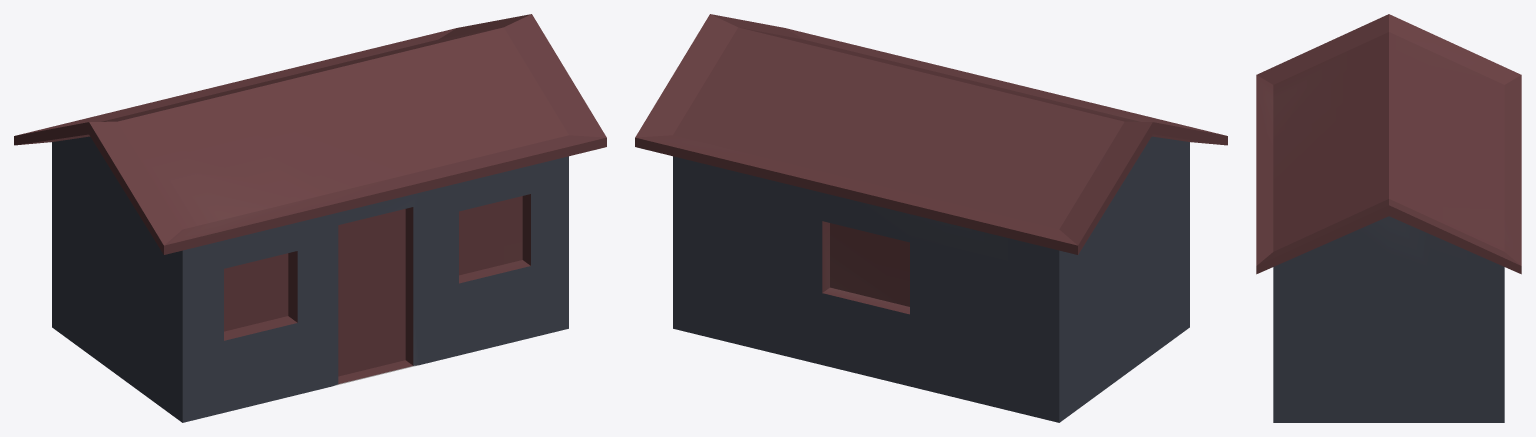
File: CasasPerifericas4.fbx
3 renders of one model, left to right at view 1: azimuth 30°, elevation 25°; view 2: azimuth 150°, elevation 25°; view 3: azimuth 270°, elevation 25°, orthographic. The views are drawn at different scales.
Visible parts, largest first — view 1: Casa04_LOD0; view 2: Casa04_LOD0; view 3: Casa04_LOD0.
Part boxes in pixels (x1,y1,x2,y2): Casa04_LOD0: [14, 14, 606, 422]; Casa04_LOD0: [635, 14, 1227, 422]; Casa04_LOD0: [1256, 14, 1521, 422].
Size of what is drawn, in the model's own units: 542 by 304 by 317.
